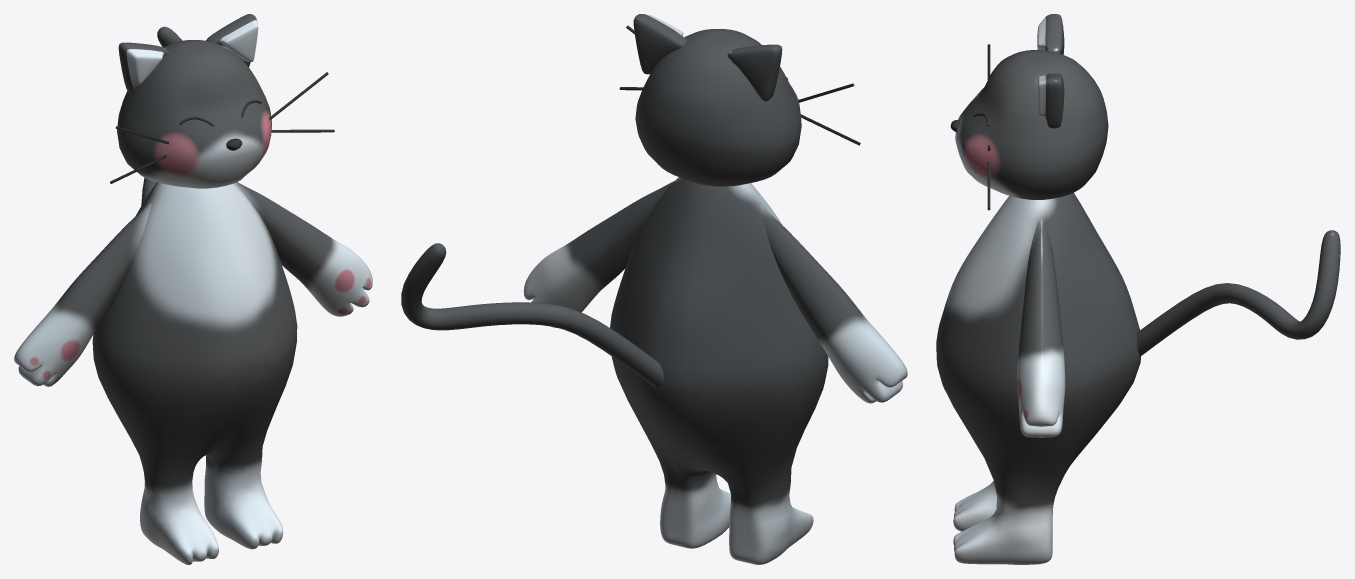
Rendered from cat_default.glb.
The picture shows the model from 3 angles, left to right: view 1: azimuth 30°, elevation 25°; view 2: azimuth 150°, elevation 25°; view 3: azimuth 270°, elevation 25°; orthographic projection. The views are drawn at different scales.
Visible parts, largest first — view 1: pTorus11; view 2: pTorus11; view 3: pTorus11.
Part boxes in pixels (x1=…): pTorus11: x1=14, y1=14, x2=372, y2=564; pTorus11: x1=401, y1=14, x2=907, y2=564; pTorus11: x1=936, y1=14, x2=1340, y2=564.
Bounding box in the file's own units: 5.7 × 7.6 × 5.59.
Materials: 1 (1 with a texture image).
